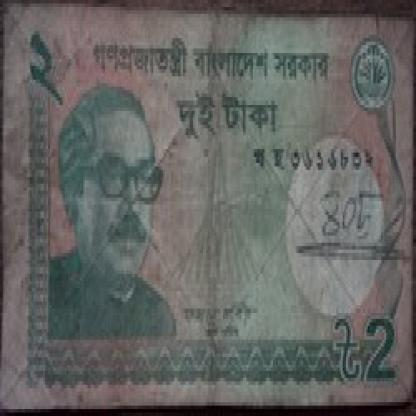two taka: (25, 17, 68, 100), (359, 308, 401, 392)
